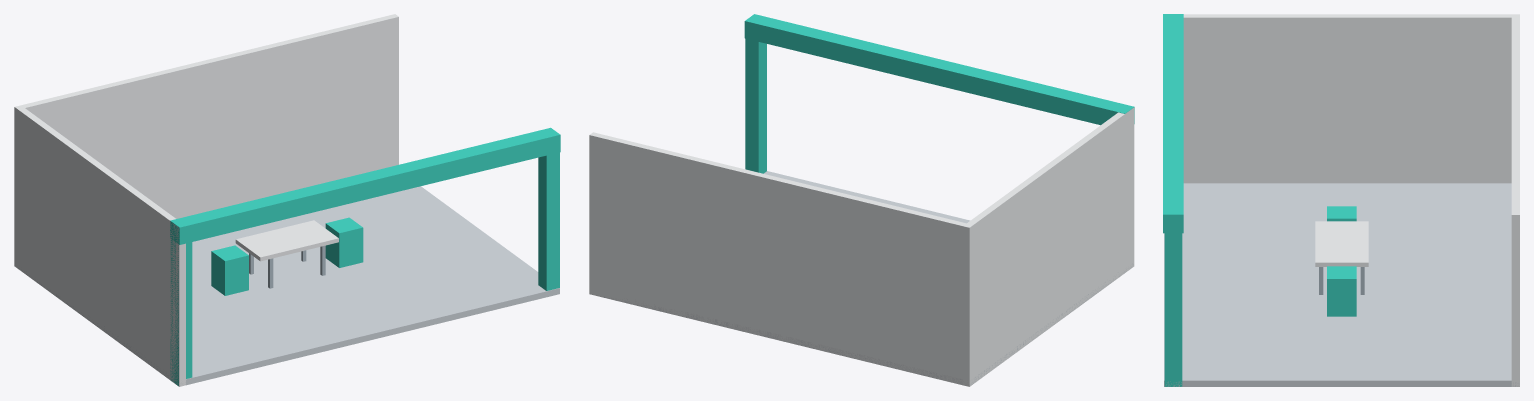
3 views of the same model, side by side, from view 1: azimuth 30°, elevation 25°; view 2: azimuth 150°, elevation 25°; view 3: azimuth 270°, elevation 25° (orthographic). The views are drawn at different scales.
Parts seen in each view (by area): view 1: Exhibition Booth Concept; view 2: Exhibition Booth Concept; view 3: Exhibition Booth Concept.
Boxes of the visible parts, x1,y1,x2,y2 form: Exhibition Booth Concept: (14, 14, 560, 386); Exhibition Booth Concept: (589, 14, 1134, 386); Exhibition Booth Concept: (1163, 14, 1519, 386).
Size of the model in its own units: 8 by 3.2 by 6.02.
